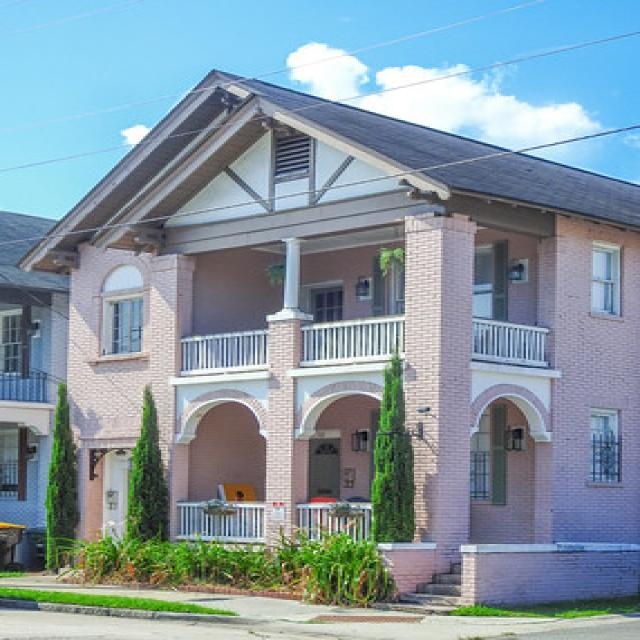building: (15, 65, 640, 609)
